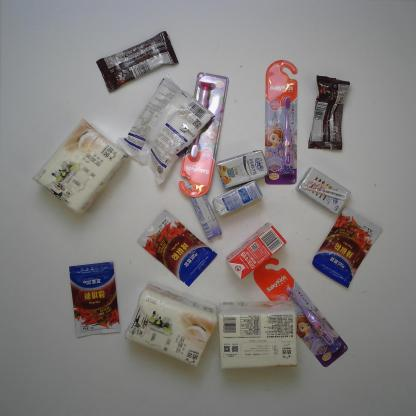Candy: (186, 185, 222, 241)
Chocolate: (96, 30, 179, 92), (308, 75, 350, 150)
Milk: (226, 222, 288, 279), (295, 167, 351, 214), (216, 150, 270, 189), (212, 180, 262, 216)
Personal Hygiene: (253, 258, 348, 367), (178, 72, 228, 198), (264, 60, 298, 184)
Seasoner: (116, 73, 215, 186), (136, 210, 218, 286), (312, 205, 383, 289), (68, 261, 121, 338)
Tissue: (32, 119, 128, 214), (125, 284, 217, 367), (218, 300, 298, 369)
